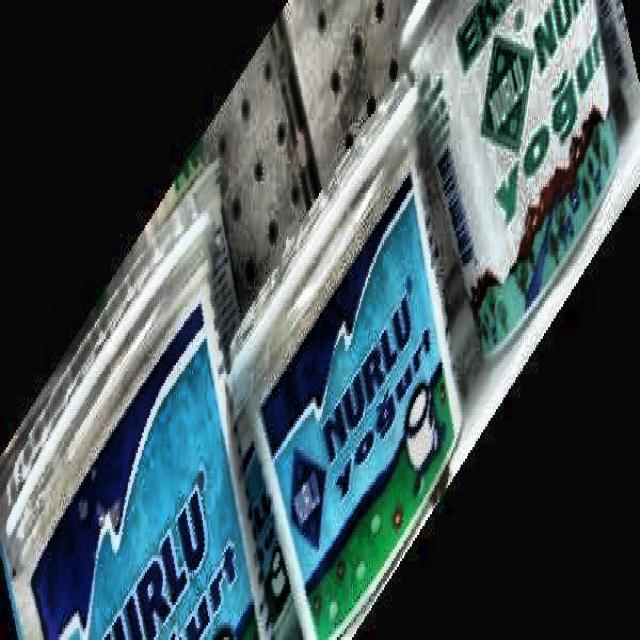plastic: (231, 75, 461, 637), (0, 182, 268, 640)
